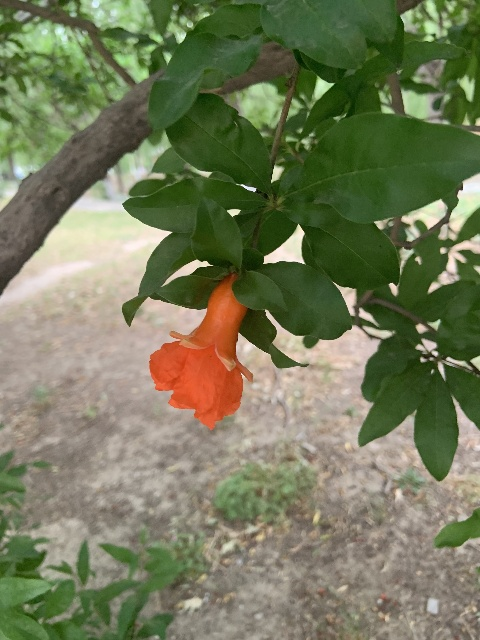flower: (149, 273, 252, 433)
